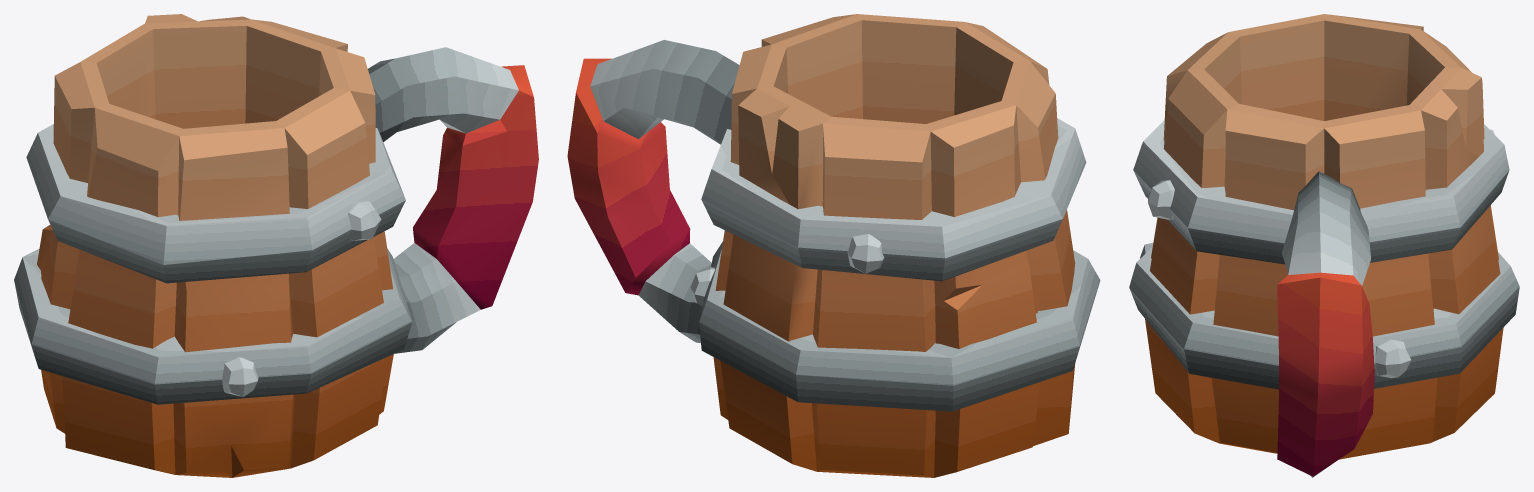
File: SM_tankard01.fbx
The picture shows the model from 3 angles, left to right: view 1: azimuth 30°, elevation 25°; view 2: azimuth 150°, elevation 25°; view 3: azimuth 270°, elevation 25°; orthographic projection. The views are drawn at different scales.
Parts seen in each view (by area): view 1: Tankard01; view 2: Tankard01; view 3: Tankard01.
Boxes of the visible parts, left/top/right/bottom form: Tankard01: left=14, top=14, right=538, bottom=477; Tankard01: left=567, top=14, right=1100, bottom=477; Tankard01: left=1129, top=14, right=1519, bottom=477.
Bounding box in the file's own units: 45.06 × 28.99 × 30.92.
Materials: 1 (1 with a texture image).
